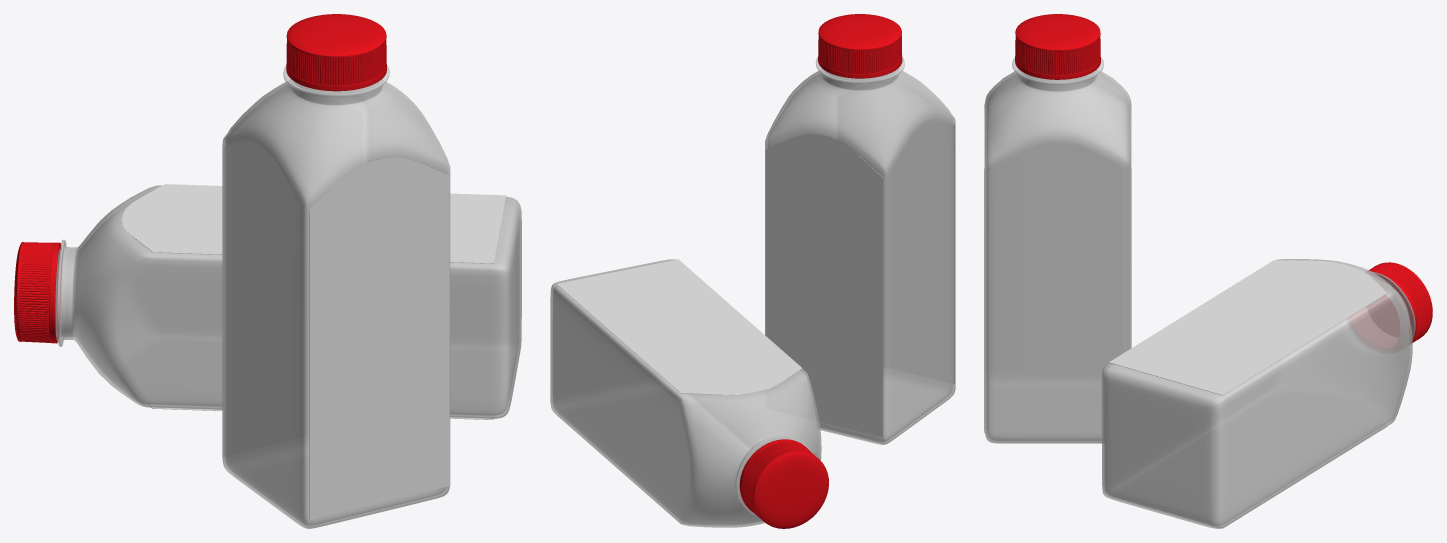
The model's file is Soft Drinks A-2.glb.
3 views of the same model, side by side, from view 1: azimuth 30°, elevation 25°; view 2: azimuth 150°, elevation 25°; view 3: azimuth 270°, elevation 25° (orthographic). The views are drawn at different scales.
Parts seen in each view (by area): view 1: Bottle_BottlePlastic_0.001, Plane, Bottle_BottlePlastic_0.002, Plane.002, ManiPiece_Bottle2CapArnold_0, pCube117_Bottle2CapArnold_0.001, pCube117_Bottle2CapArnold_0, ManiPiece_Bottle2CapArnold_0.001; view 2: Bottle_BottlePlastic_0.001, Bottle_BottlePlastic_0.002, Plane, Plane.002, ManiPiece_Bottle2CapArnold_0.001, ManiPiece_Bottle2CapArnold_0, pCube117_Bottle2CapArnold_0, pCube117_Bottle2CapArnold_0.001; view 3: Bottle_BottlePlastic_0.001, Bottle_BottlePlastic_0.002, Plane.002, ManiPiece_Bottle2CapArnold_0, pCube117_Bottle2CapArnold_0, ManiPiece_Bottle2CapArnold_0.001, pCube117_Bottle2CapArnold_0.001, Plane.
Boxes of the visible parts, x1=… form: Bottle_BottlePlastic_0.001: x1=222, y1=65, x2=450, y2=528; Plane: x1=224, y1=145, x2=449, y2=519; Bottle_BottlePlastic_0.002: x1=55, y1=185, x2=521, y2=418; Plane.002: x1=122, y1=184, x2=506, y2=419; ManiPiece_Bottle2CapArnold_0: x1=286, y1=14, x2=386, y2=91; pCube117_Bottle2CapArnold_0.001: x1=19, y1=242, x2=53, y2=342; pCube117_Bottle2CapArnold_0: x1=286, y1=40, x2=386, y2=85; ManiPiece_Bottle2CapArnold_0.001: x1=14, y1=242, x2=61, y2=343; Bottle_BottlePlastic_0.001: x1=765, y1=57, x2=955, y2=444; Bottle_BottlePlastic_0.002: x1=550, y1=259, x2=821, y2=527; Plane: x1=765, y1=124, x2=954, y2=437; Plane.002: x1=556, y1=259, x2=802, y2=525; ManiPiece_Bottle2CapArnold_0.001: x1=739, y1=439, x2=828, y2=528; ManiPiece_Bottle2CapArnold_0: x1=818, y1=14, x2=902, y2=78; pCube117_Bottle2CapArnold_0: x1=818, y1=36, x2=901, y2=74; pCube117_Bottle2CapArnold_0.001: x1=742, y1=441, x2=814, y2=519; Bottle_BottlePlastic_0.001: x1=984, y1=57, x2=1131, y2=443; Bottle_BottlePlastic_0.002: x1=1101, y1=259, x2=1415, y2=528; Plane.002: x1=1109, y1=260, x2=1387, y2=528; ManiPiece_Bottle2CapArnold_0: x1=1015, y1=14, x2=1100, y2=79; pCube117_Bottle2CapArnold_0: x1=1015, y1=36, x2=1100, y2=75; ManiPiece_Bottle2CapArnold_0.001: x1=1367, y1=262, x2=1432, y2=339; pCube117_Bottle2CapArnold_0.001: x1=1367, y1=263, x2=1431, y2=343; Plane: x1=984, y1=104, x2=1131, y2=432.
Bounding box in the file's own units: 4.96 × 5.18 × 5.41.
